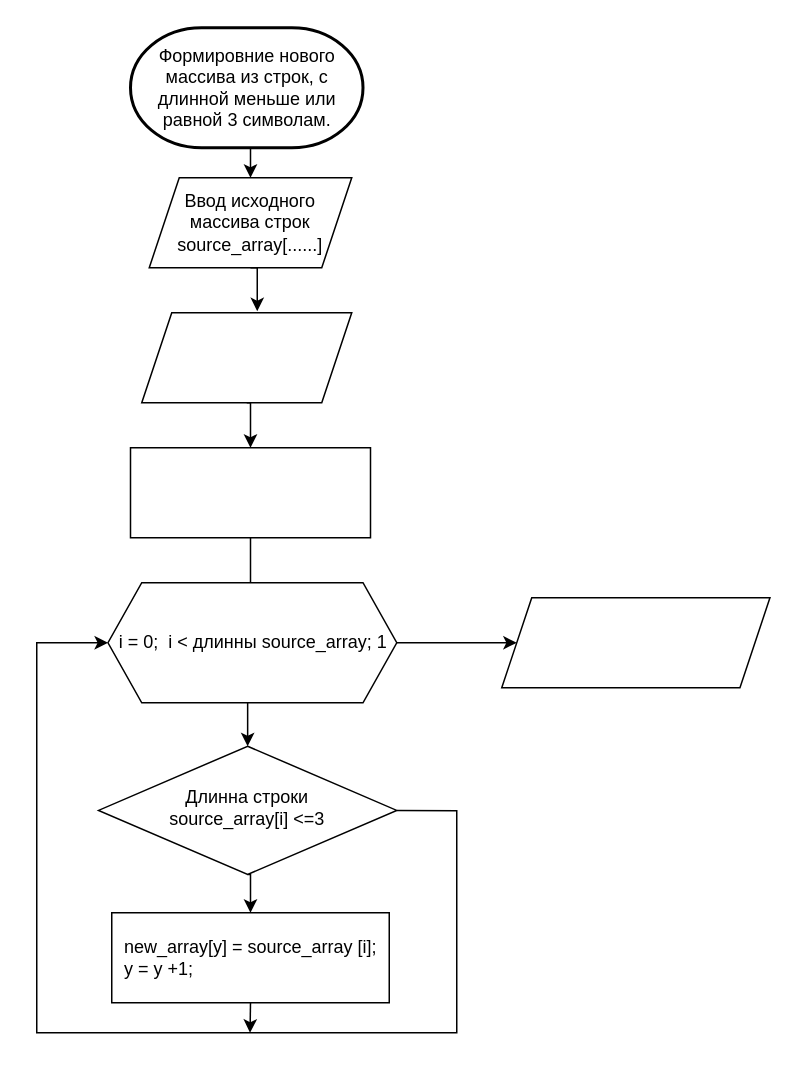
This 797x1071 diagram has some shape labels left out. The shapes that lost their labels are listed below. From the top down, each one's box as (x1, y1, x2, y2) in pixels, then its label:
(140, 311, 352, 403): Создание нового массива строк с длинной исходного new_array[]
(129, 446, 370, 538): y = 0; счетчик для индексации строк нового массива
(500, 596, 770, 688): Вывод нового массива new_array[....]
